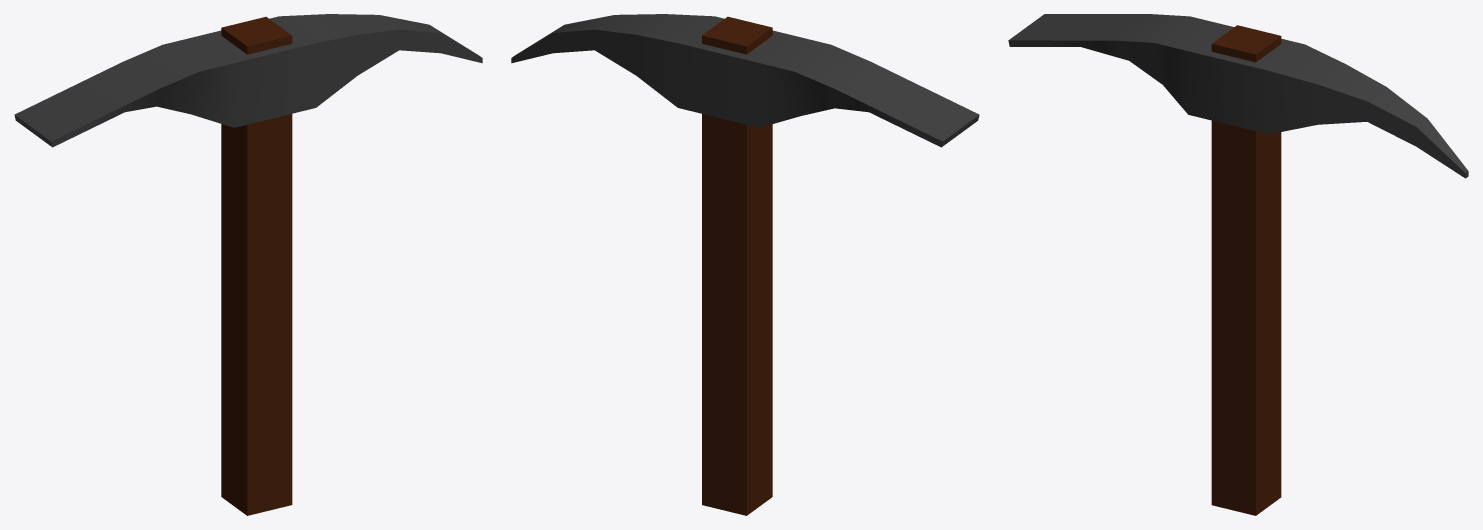
File: Pickaxe.fbx
The picture shows the model from 3 angles, left to right: view 1: azimuth 30°, elevation 25°; view 2: azimuth 150°, elevation 25°; view 3: azimuth 330°, elevation 25°; orthographic projection.
Parts seen in each view (by area): view 1: Box001, Box002; view 2: Box001, Box002; view 3: Box001, Box002.
Boxes of the visible parts, left/top/right/bottom form: Box001: left=221, top=16, right=292, bottom=515; Box002: left=14, top=14, right=482, bottom=147; Box001: left=702, top=16, right=772, bottom=515; Box002: left=511, top=14, right=979, bottom=147; Box001: left=1211, top=25, right=1281, bottom=515; Box002: left=1008, top=14, right=1468, bottom=178.
Size of the model in its own units: 39.34 by 39.37 by 5.59.
